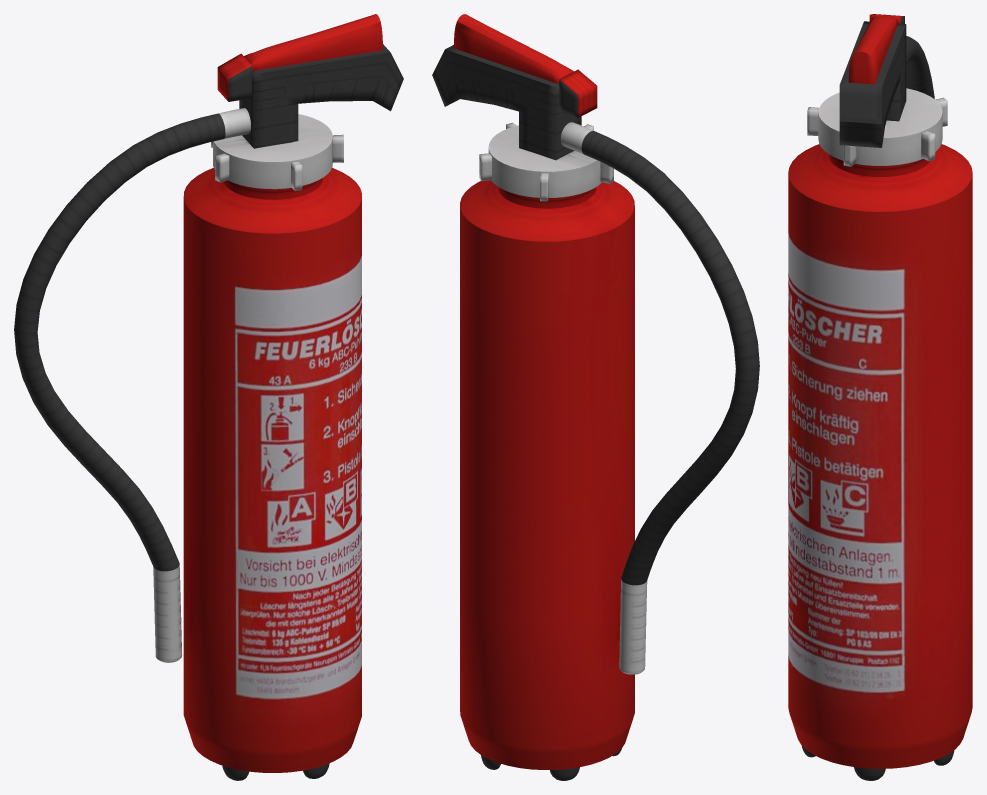
File: fire_extinguisher.glb
The picture shows the model from 3 angles, left to right: view 1: azimuth 30°, elevation 25°; view 2: azimuth 150°, elevation 25°; view 3: azimuth 270°, elevation 25°; orthographic projection. The views are drawn at different scales.
Visible parts, largest first — view 1: fire extinguisher; view 2: fire extinguisher; view 3: fire extinguisher.
Boxes of the visible parts, box(x1,y1,x2,y2) form: fire extinguisher: box(14, 14, 403, 780); fire extinguisher: box(432, 14, 759, 780); fire extinguisher: box(788, 14, 972, 780).
Bounding box in the file's own units: 0.6964 × 1.37 × 0.3055.
Materials: 1 (1 with a texture image).
